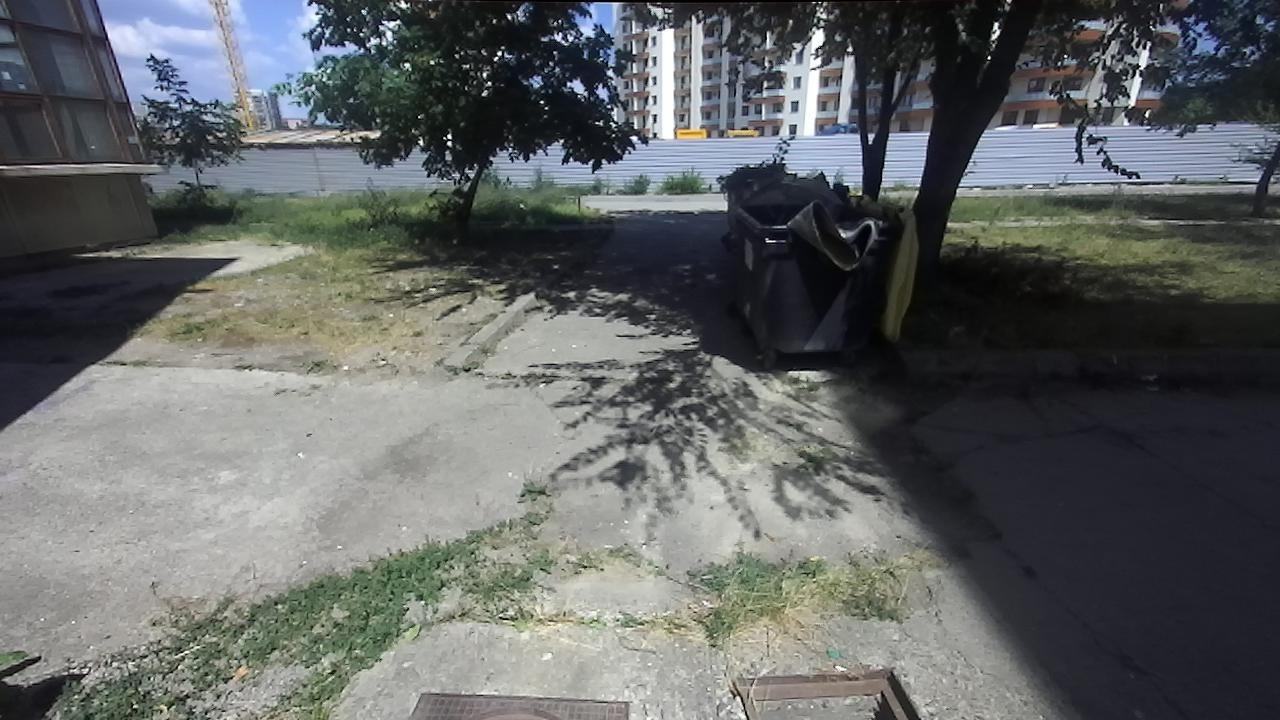drain: (723, 664, 932, 719)
